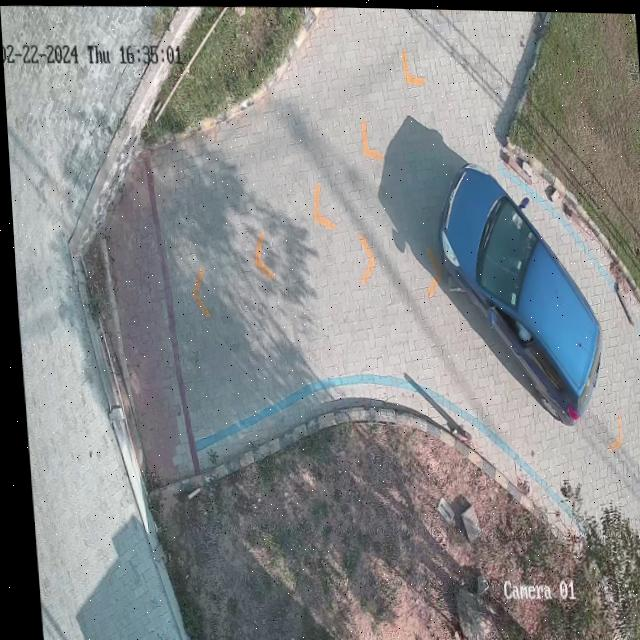car: (436, 163, 598, 421)
